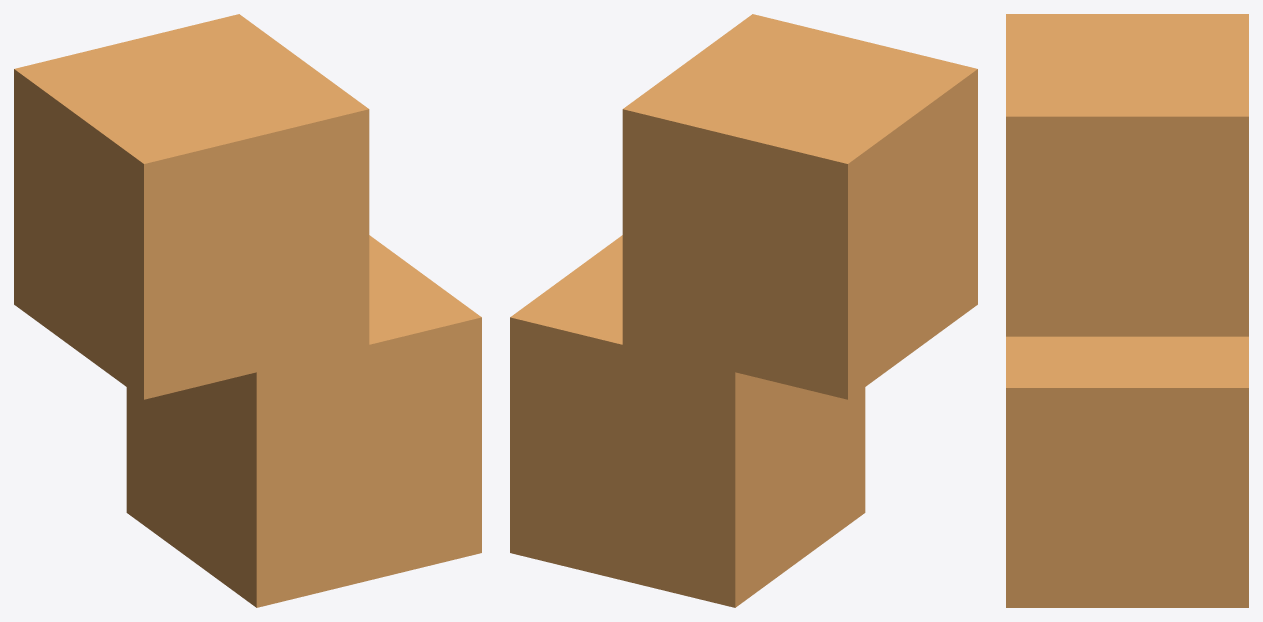
The model's file is puzzle_shape_L.glb.
The picture shows the model from 3 angles, left to right: view 1: azimuth 30°, elevation 25°; view 2: azimuth 150°, elevation 25°; view 3: azimuth 270°, elevation 25°; orthographic projection. The views are drawn at different scales.
Visible parts, largest first — view 1: puzzle_shape_L; view 2: puzzle_shape_L; view 3: puzzle_shape_L.
Part boxes in pixels (left/top/right/bottom): puzzle_shape_L: left=14, top=14, right=481, bottom=607; puzzle_shape_L: left=510, top=14, right=977, bottom=607; puzzle_shape_L: left=1006, top=14, right=1248, bottom=607.
Size of the model in its own units: 1.2 by 1.6 by 0.8.
